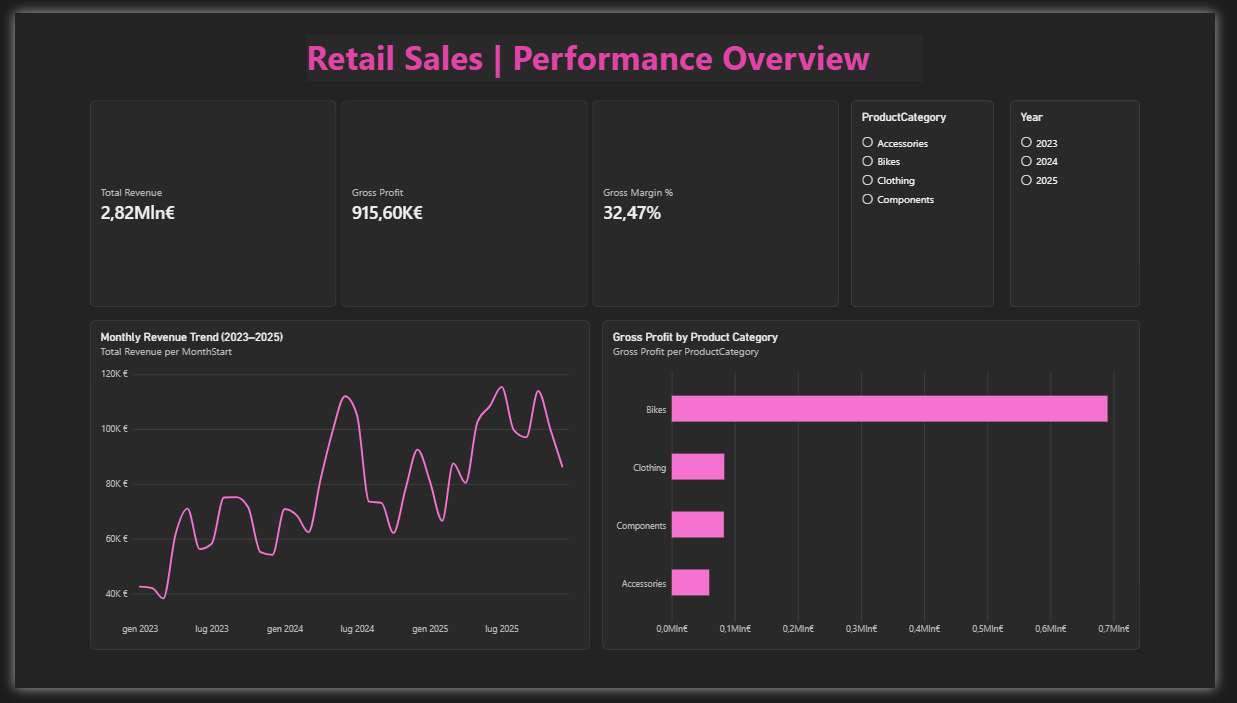

This screenshot's page, from the dashboard's own definition file:
{"tool":"powerbi","page":{"name":"Sales Overview","canvas":[1920,1080],"ordinal":0},"visuals":[{"type":"cardVisual","fields":{"Data":["Sales.Total Revenue","Sales.Gross Profit","Sales.Gross Margin %"]},"box":[120,140,1200,330],"z":0},{"type":"lineChart","title":"Monthly Revenue Trend (2023–2025)","fields":{"Category":["Dates.MonthStart"],"Y":["Sales.Total Revenue"]},"box":[120,492,800,526],"z":1000},{"type":"clusteredBarChart","title":"Gross Profit by Product Category","fields":{"Category":["Sales.ProductCategory"],"Y":["Sales.Gross Profit"]},"box":[940,492,860,526],"z":2000},{"type":"listSlicer","fields":{"Values":["Dates.Year"]},"box":[1592,140,208,330],"z":3000},{"type":"textbox","box":[466,34,986,76],"z":4000},{"type":"listSlicer","fields":{"Values":["Sales.ProductCategory"]},"box":[1338,140,228,330],"z":5000}]}

Visuals, with their boxes in screenshot pixels (x1, y1, x2, y2), scaled from the page's 1920x1080 canvas onto the 1237x703 screenshot:
cardVisual - Sales.Total Revenue x Sales.Gross Profit: left=77, top=91, right=850, bottom=306
"Monthly Revenue Trend (2023–2025)" lineChart: left=77, top=320, right=593, bottom=663
"Gross Profit by Product Category" clusteredBarChart: left=606, top=320, right=1160, bottom=663
listSlicer - Dates.Year: left=1026, top=91, right=1160, bottom=306
textbox: left=300, top=22, right=935, bottom=72
listSlicer - Sales.ProductCategory: left=862, top=91, right=1009, bottom=306
